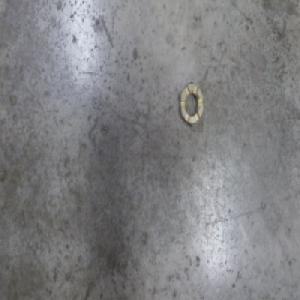Nut: (179, 78, 203, 127)
